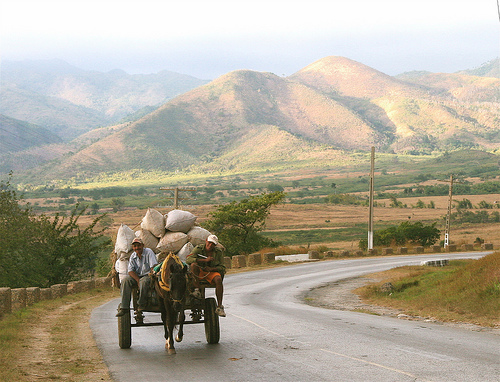horse: (154, 250, 188, 355)
